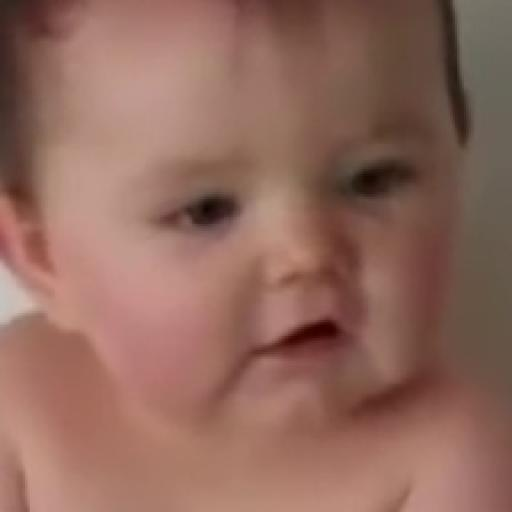Autism: (24, 6, 492, 488)
